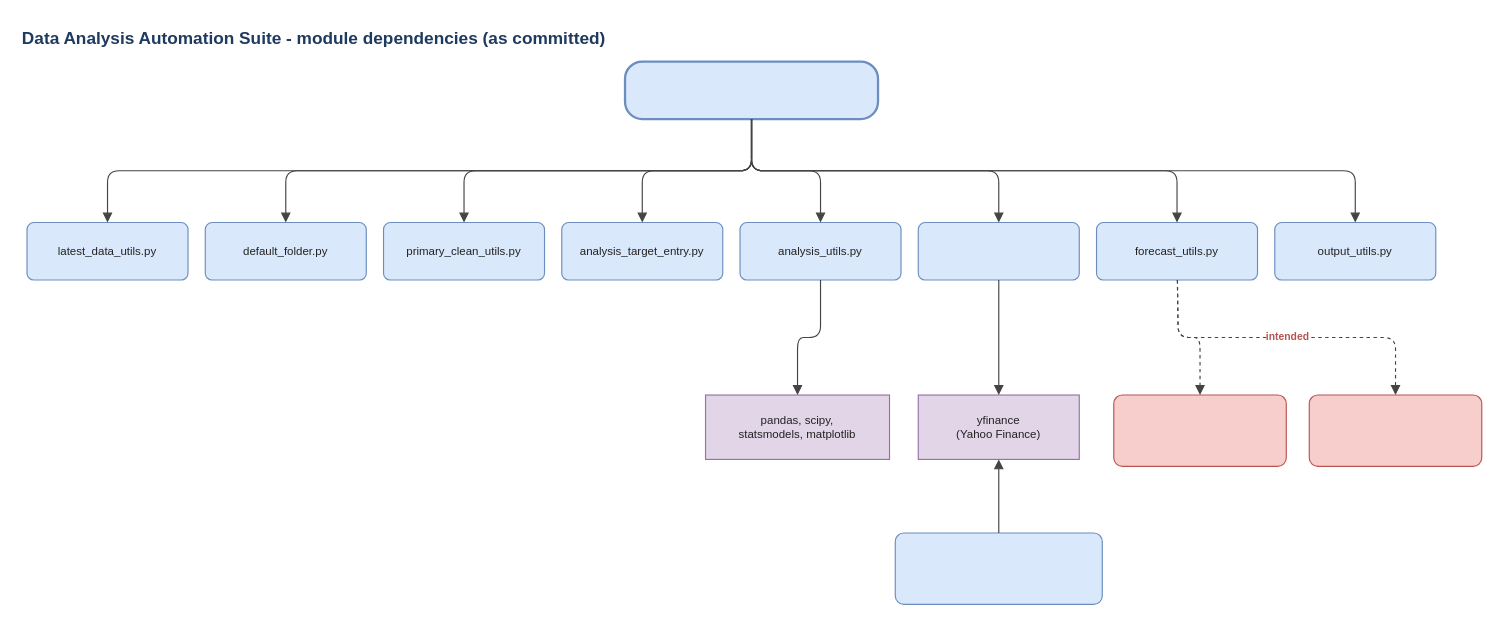
This 1502x624 diagram has some shape labels left out. The shapes that lost their labels are listed below. From the top down, each one's centre as x and y in pixels, then its label:
At point (751, 90): "task_runner.py".
At point (998, 250): "kpi_utils.py".
At point (1199, 430): "cashflow_utils.py (not called by committed code)".
At point (1395, 430): "balance_sheet_utils.py (not called by committed code)".
At point (998, 568): "financial_metrics_utils.py (standalone, not called by the runner)".
